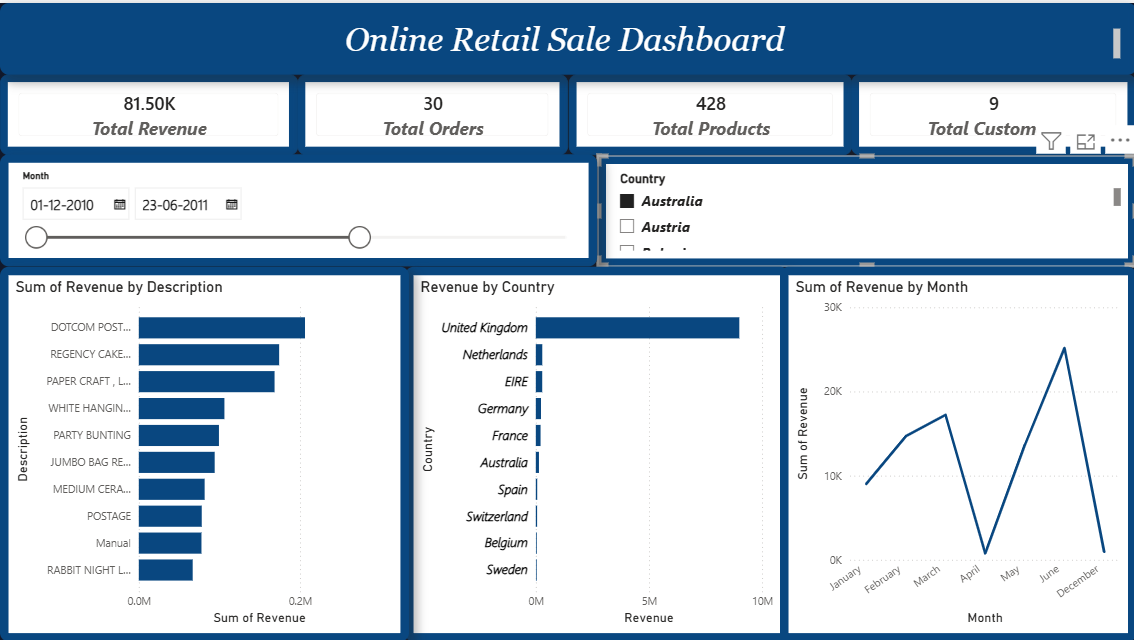

The page's visual inventory and layout, read from the dashboard file:
{"tool":"powerbi","page":{"name":"Page 1","canvas":[1280,720],"ordinal":0},"visuals":[{"type":"cardVisual","fields":{"Data":["Sum(cleaned_online_retail.Revenue)"]},"box":[0,80.6,335.8,91],"z":0},{"type":"cardVisual","fields":{"Data":["Count(cleaned_online_retail.InvoiceNo)"]},"box":[335.8,80.6,304.5,91],"z":1000},{"type":"cardVisual","fields":{"Data":["Count(cleaned_online_retail.StockCode)"]},"box":[640.3,80.6,319.4,91],"z":2000},{"type":"cardVisual","fields":{"Data":["Count(cleaned_online_retail.CustomerID)"]},"box":[959.7,80.6,320.9,91],"z":3000},{"type":"slicer","fields":{"Values":["cleaned_online_retail.Country"]},"box":[673.1,171.6,607.5,125.4],"z":4000},{"type":"slicer","fields":{"Values":["cleaned_online_retail.Month"]},"box":[0,171,673,126],"z":5000},{"type":"textbox","box":[0,0,1280.6,80.6],"z":6000},{"type":"clusteredBarChart","fields":{"Category":["cleaned_online_retail.Country"],"Y":["Sum(cleaned_online_retail.Revenue)"]},"box":[456.7,297,432.8,422.4],"z":7000},{"type":"clusteredBarChart","fields":{"Category":["cleaned_online_retail.Description"],"Y":["Sum(cleaned_online_retail.Revenue)"]},"box":[0,297,461.2,422.4],"z":8000},{"type":"lineChart","fields":{"Category":["cleaned_online_retail.Month.Variation.Date Hierarchy.Month"],"Y":["Sum(cleaned_online_retail.Revenue)"]},"box":[879.1,297,401.5,422.4],"z":9000}]}

Visuals, with their boxes in screenshot pixels (x1, y1, x2, y2), scaled from the page's 1280x720 canvas onto the 1134x640 screenshot:
cardVisual - Sum(cleaned_online_retail.Revenue): (x1=0, y1=72, x2=297, y2=153)
cardVisual - Count(cleaned_online_retail.InvoiceNo): (x1=297, y1=72, x2=567, y2=153)
cardVisual - Count(cleaned_online_retail.StockCode): (x1=567, y1=72, x2=850, y2=153)
cardVisual - Count(cleaned_online_retail.CustomerID): (x1=850, y1=72, x2=1133, y2=153)
slicer - cleaned_online_retail.Country: (x1=596, y1=153, x2=1133, y2=264)
slicer - cleaned_online_retail.Month: (x1=0, y1=152, x2=596, y2=264)
textbox: (x1=0, y1=0, x2=1133, y2=72)
clusteredBarChart - cleaned_online_retail.Country x Sum(cleaned_online_retail.Revenue): (x1=405, y1=264, x2=788, y2=639)
clusteredBarChart - cleaned_online_retail.Description x Sum(cleaned_online_retail.Revenue): (x1=0, y1=264, x2=409, y2=639)
lineChart - cleaned_online_retail.Month.Variation.Date Hierarchy.Month x Sum(cleaned_online_retail.Revenue): (x1=779, y1=264, x2=1133, y2=639)
